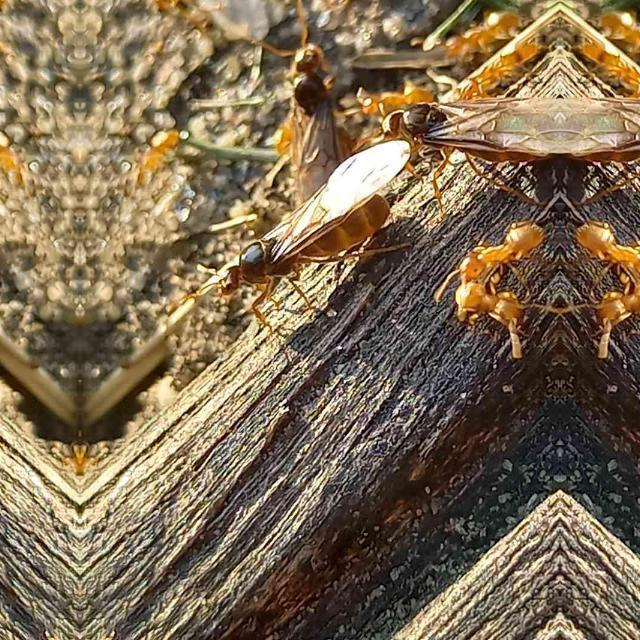Lasius: (194, 139, 403, 349), (366, 78, 558, 202), (248, 23, 362, 208), (558, 76, 640, 202), (445, 32, 545, 98), (446, 268, 540, 338), (455, 212, 531, 286), (428, 8, 526, 60), (572, 31, 640, 98), (576, 268, 640, 338), (123, 118, 183, 186), (586, 212, 640, 286), (258, 86, 306, 156), (335, 84, 433, 118), (590, 6, 640, 59), (0, 117, 34, 184)
